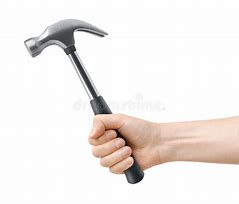hammer: (23, 17, 146, 185)
